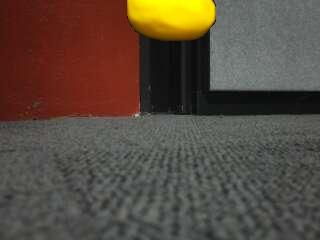Lemon: (125, 0, 217, 43)
